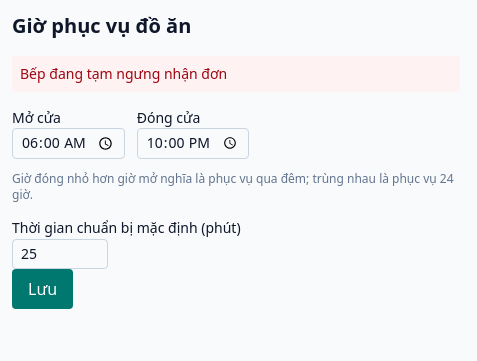
Scenario: RoomServiceSettingsForm › shows the current hours and saves new ones
The image size is (477, 361).
expect the text "Bếp đang tạm ngưng nhận đơn" is shown: met, box [12,56,460,92]
Replace the text in the time field labelled "Mở cửa" with "18:00" at (68, 143), box [12,128,125,159]
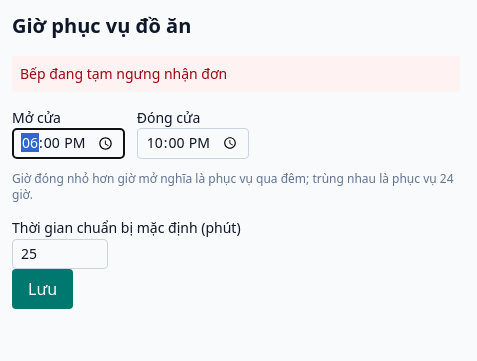
Replace the text in the time field labelled "Đóng cửa" with "02:00" at (193, 143), box [137,128,249,159]
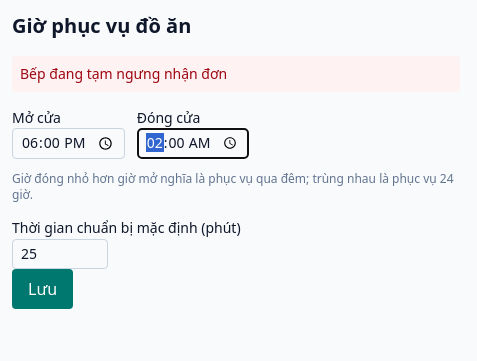
Click the button "Lưu" at (43, 289), box [12,269,73,309]
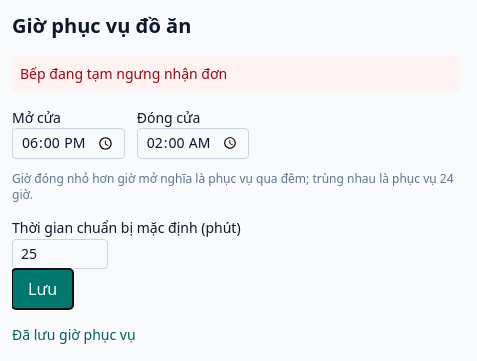
expect the message reads "Đã lưu giờ phục vụ": met, box [12,325,136,344]
